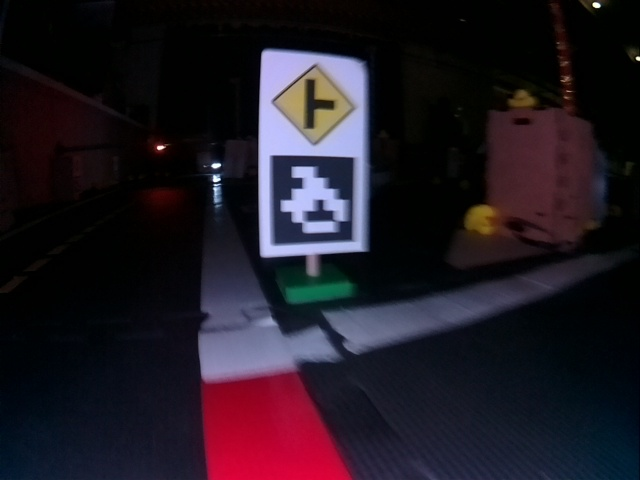Duckie: (466, 206, 495, 229), (511, 90, 536, 107)
Intersection sign: (270, 61, 357, 146)
QR code: (266, 154, 356, 246)
